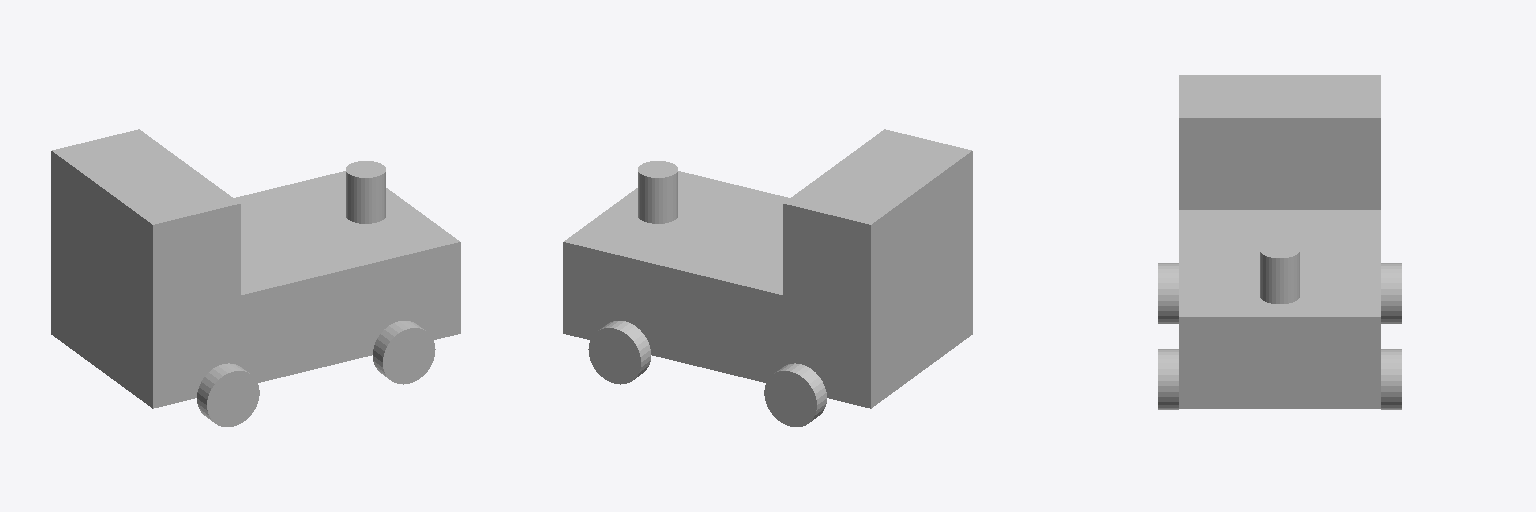
Rendered from Model_Train.obj.
3 views of the same model, side by side, from view 1: azimuth 30°, elevation 25°; view 2: azimuth 150°, elevation 25°; view 3: azimuth 270°, elevation 25° (orthographic).
Visible parts, largest first — view 1: Train_Cube.003; view 2: Train_Cube.003; view 3: Train_Cube.003.
Part boxes in pixels (x1,y1,x2,y2): Train_Cube.003: (51, 129, 460, 426); Train_Cube.003: (563, 129, 972, 426); Train_Cube.003: (1158, 75, 1401, 409).
Size of the model in its own units: 3.5 by 2.3 by 2.4.